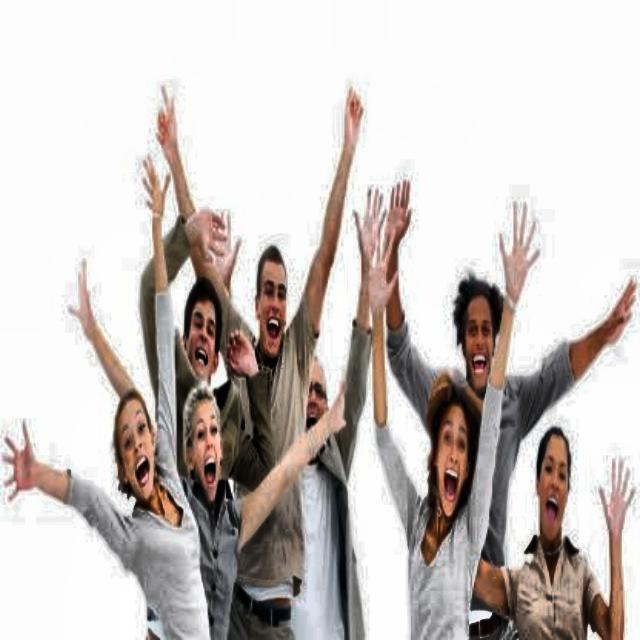happy: (417, 355, 490, 530), (180, 372, 232, 525), (452, 263, 510, 396), (113, 388, 160, 535), (532, 417, 582, 547), (248, 240, 295, 367), (177, 278, 227, 387), (296, 336, 340, 443)
